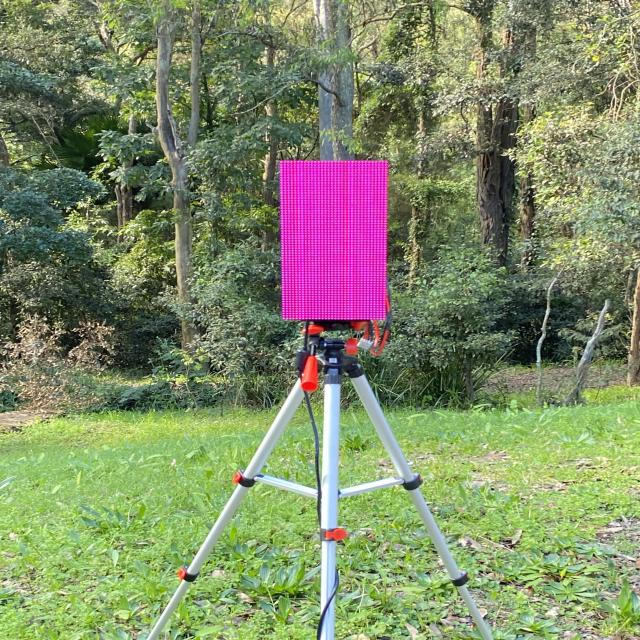matrix: (273, 152, 397, 326)
